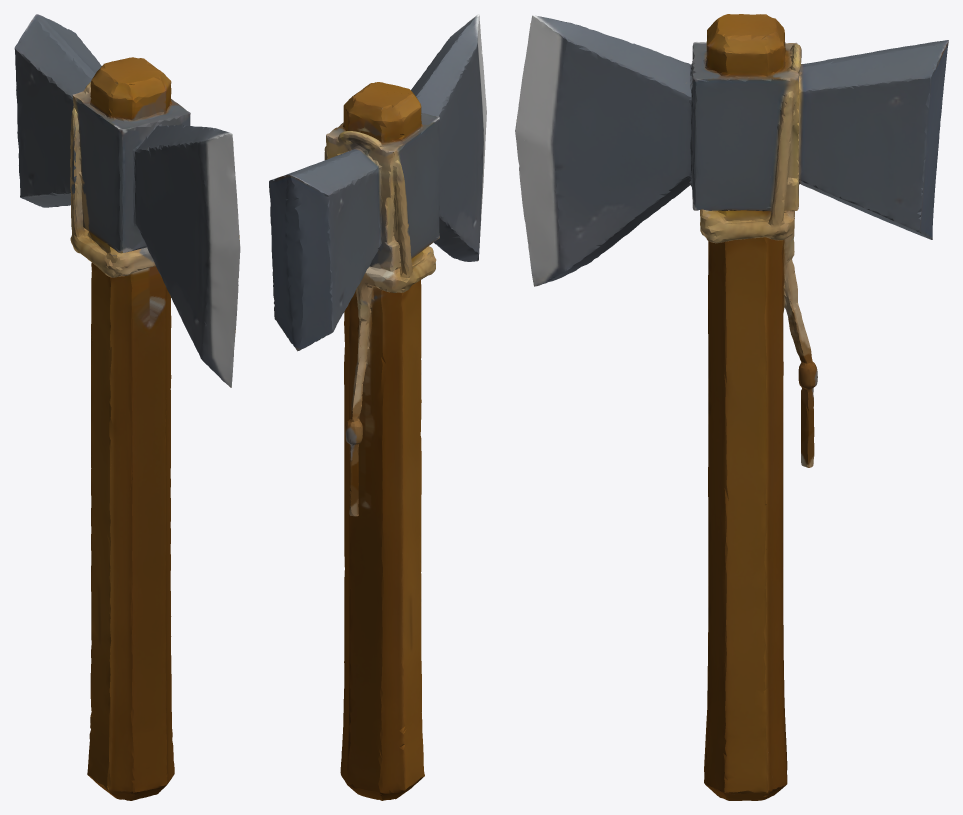
The picture shows the model from 3 angles, left to right: view 1: azimuth 30°, elevation 25°; view 2: azimuth 150°, elevation 25°; view 3: azimuth 270°, elevation 25°; orthographic projection. The views are drawn at different scales.
Parts seen in each view (by area): view 1: 8; view 2: 8; view 3: 8.
Boxes of the visible parts, left/top/right/bottom form: 8: left=14, top=14, right=240, bottom=800; 8: left=269, top=14, right=486, bottom=800; 8: left=515, top=14, right=948, bottom=800.
Bounding box in the file's own units: 0.1164 × 0.9 × 0.4568.
1 material, 1 textured.
